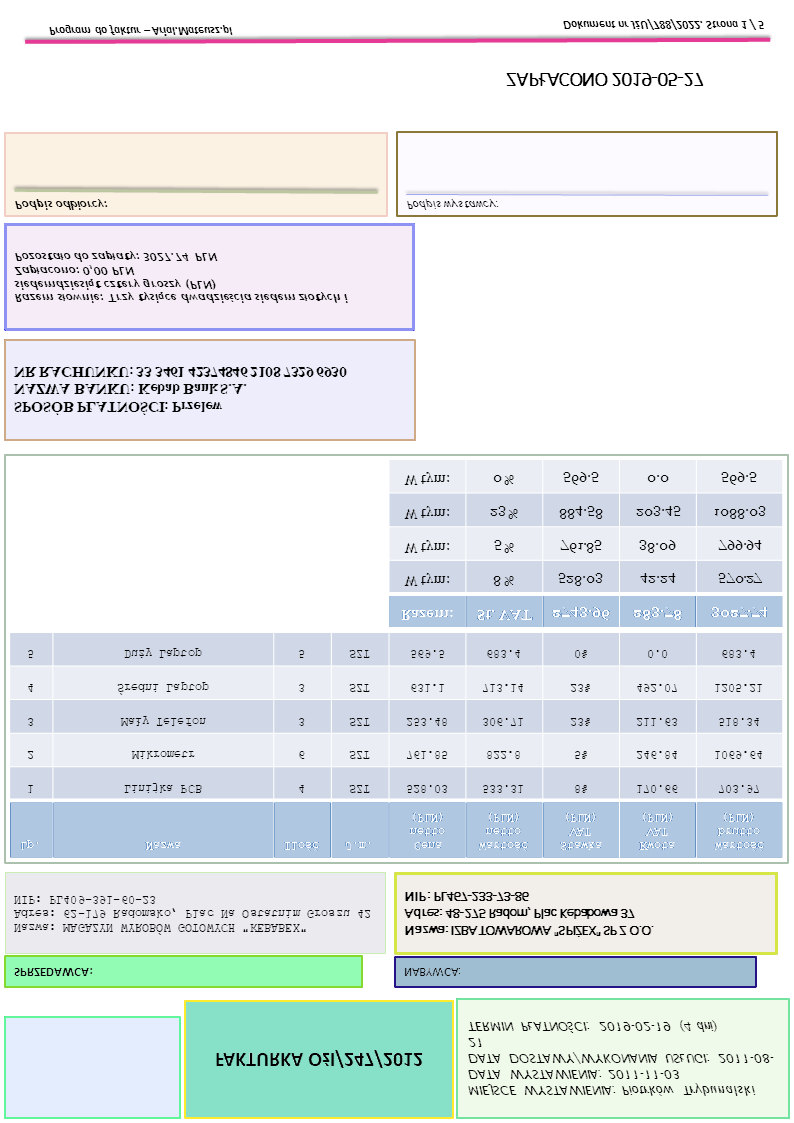Table: (8, 632, 783, 861), (388, 459, 783, 628)
TextBox: (463, 1018, 775, 1100), (12, 249, 352, 306), (12, 363, 348, 418), (11, 892, 372, 935), (401, 889, 654, 938), (212, 1048, 425, 1070), (503, 70, 707, 92), (560, 17, 766, 33), (44, 23, 236, 39), (11, 197, 108, 213), (11, 963, 94, 980), (405, 198, 499, 212), (400, 963, 462, 981)
